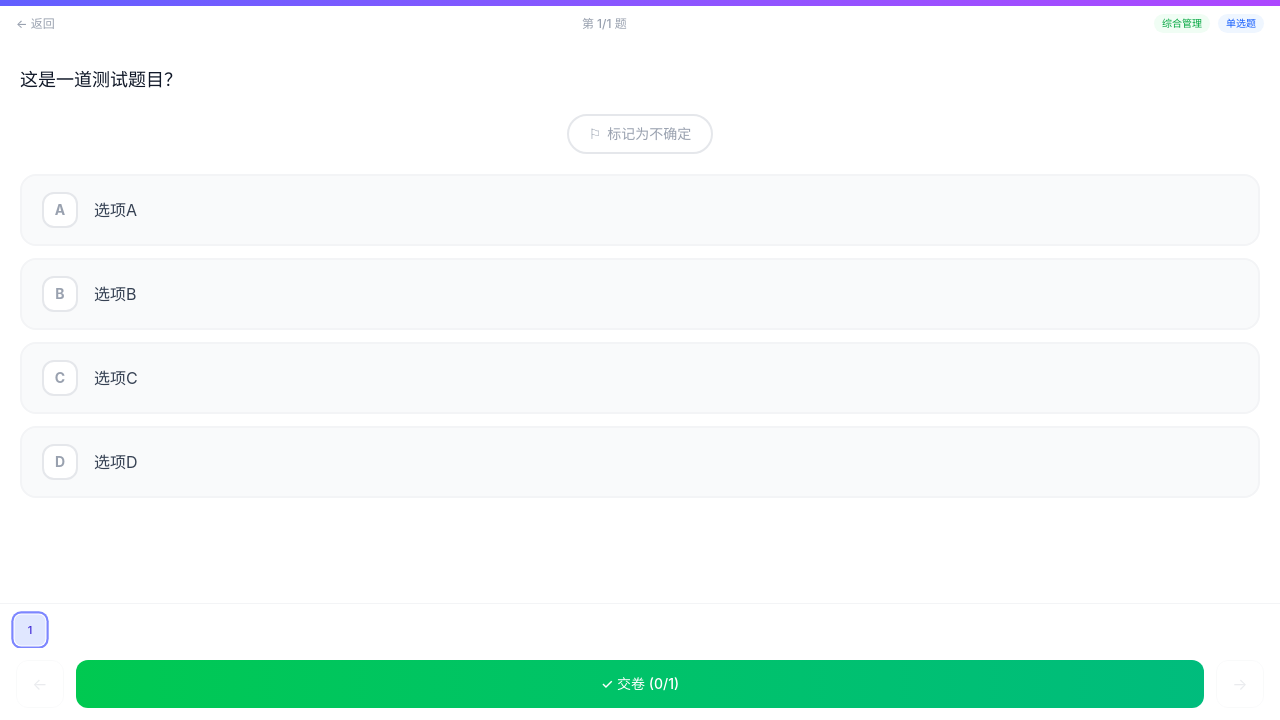
QuizPage — 返回首页按钮 › 取消返回：弹窗关闭，留在答题页
Expected: the text "这是一道测试题目？" is shown, [20, 69, 182, 90]
Click the button "← 返回" at (35, 24), box [16, 16, 55, 32]
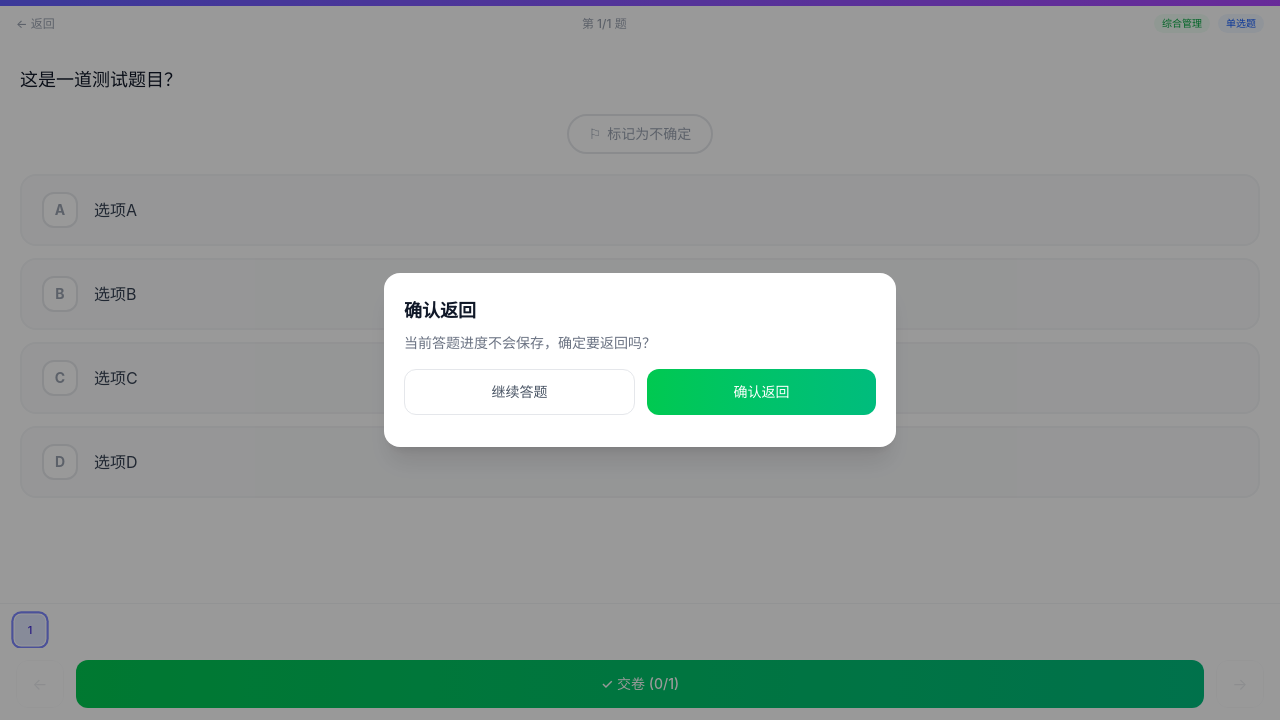
Now the heading "确认返回" is shown, box [404, 300, 476, 321]
Click the button "继续答题" at (520, 392), box [404, 369, 635, 415]
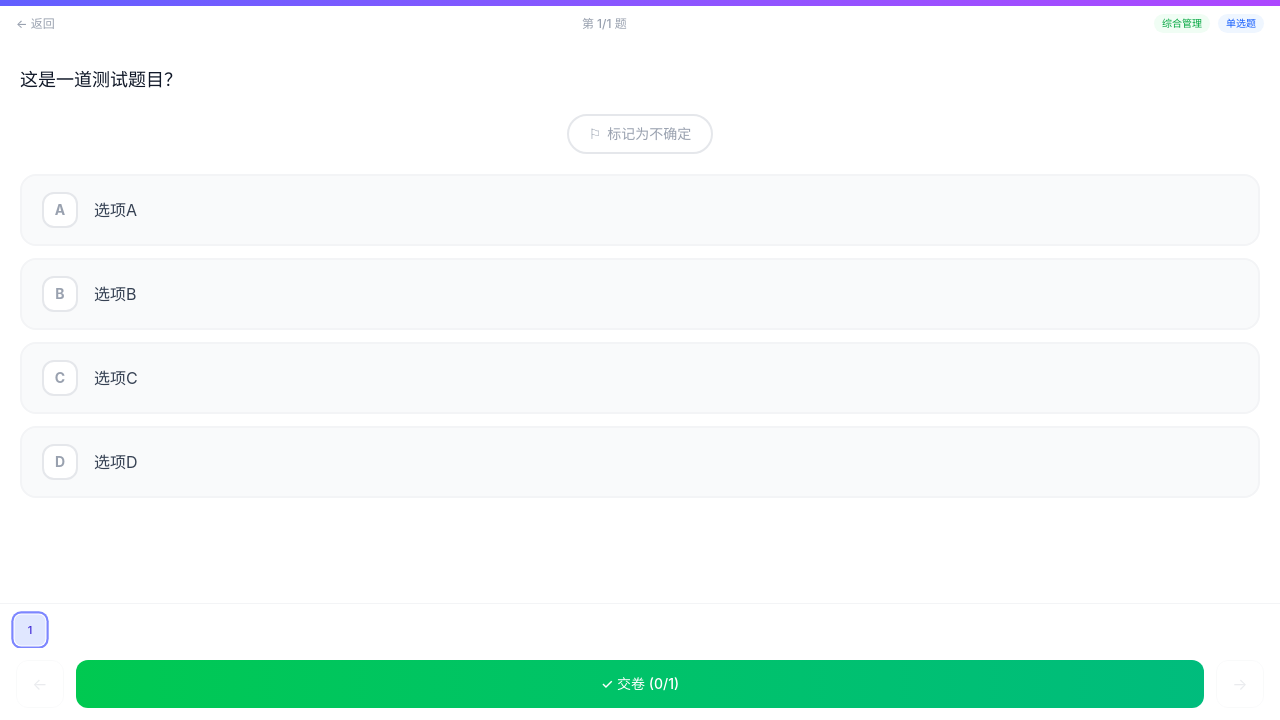
Expected: the text "这是一道测试题目？" is shown, [20, 69, 182, 90]
Now the heading "确认返回" is gone
